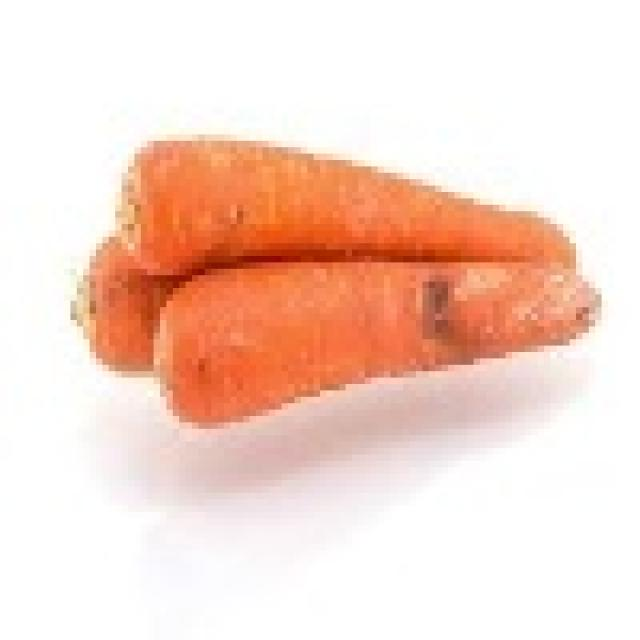Fresh_Carrot: (51, 110, 613, 432)
